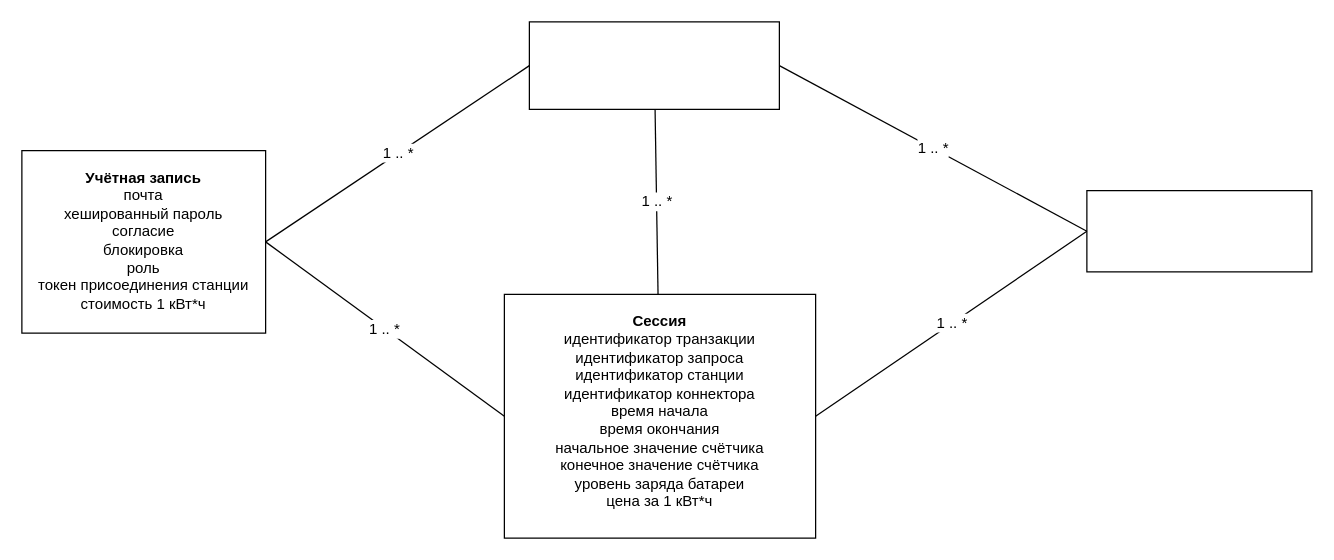
Image size: 1334x560. Some labels were removed from this diagram. Each missing label, with the box of its shape:
Коннектор номер на станции статус: (1086, 189, 1312, 272)
Станция идентификатор OCPP статус: (528, 21, 779, 109)
